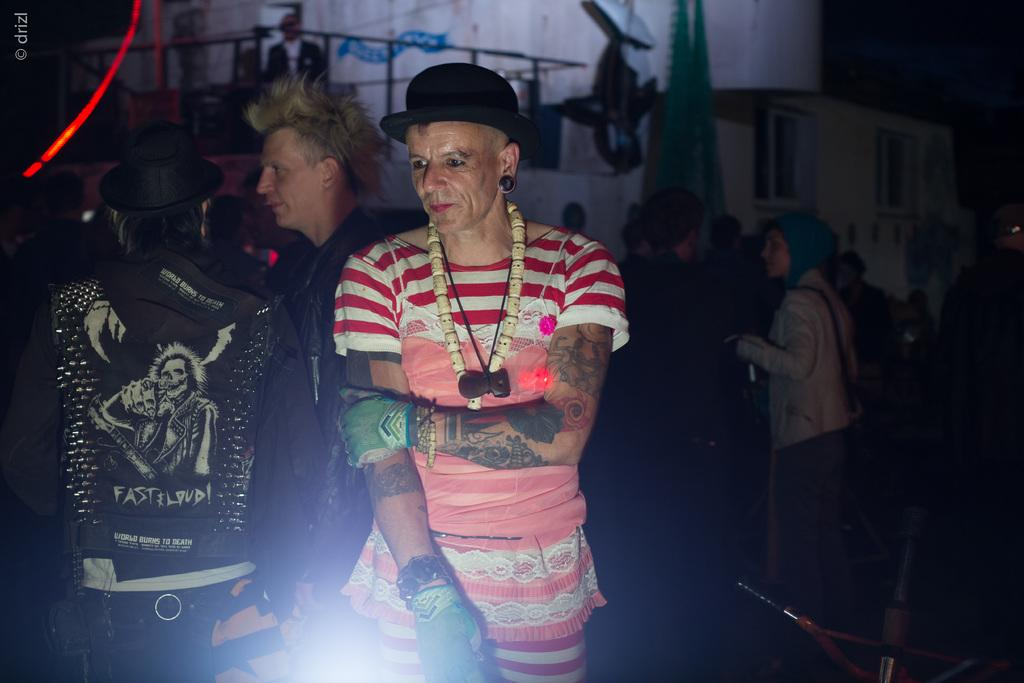Hat: (379, 61, 543, 162)
